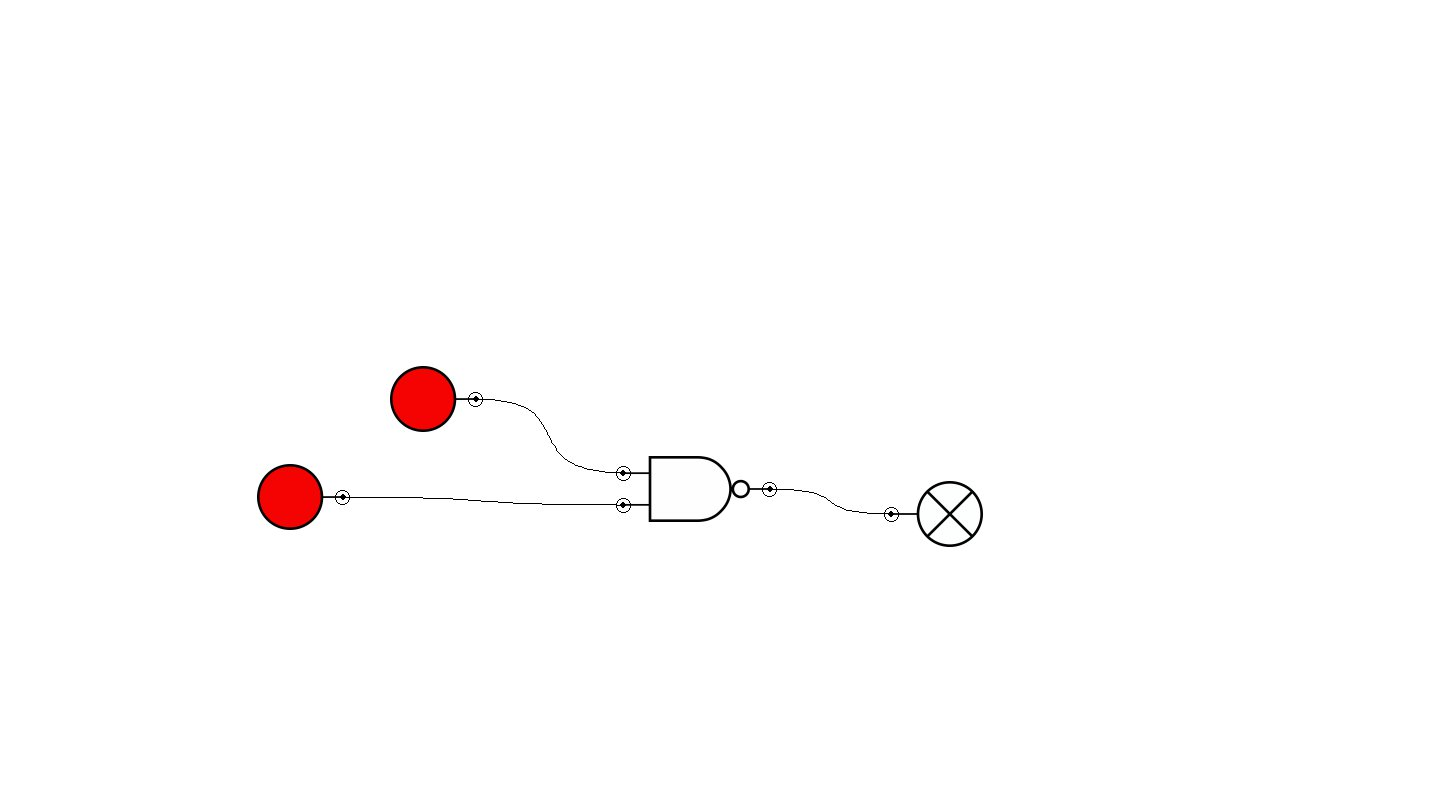bulb: (884, 481, 983, 547)
nand: (616, 456, 777, 522)
switch_False: (390, 366, 483, 432), (257, 464, 350, 530)
